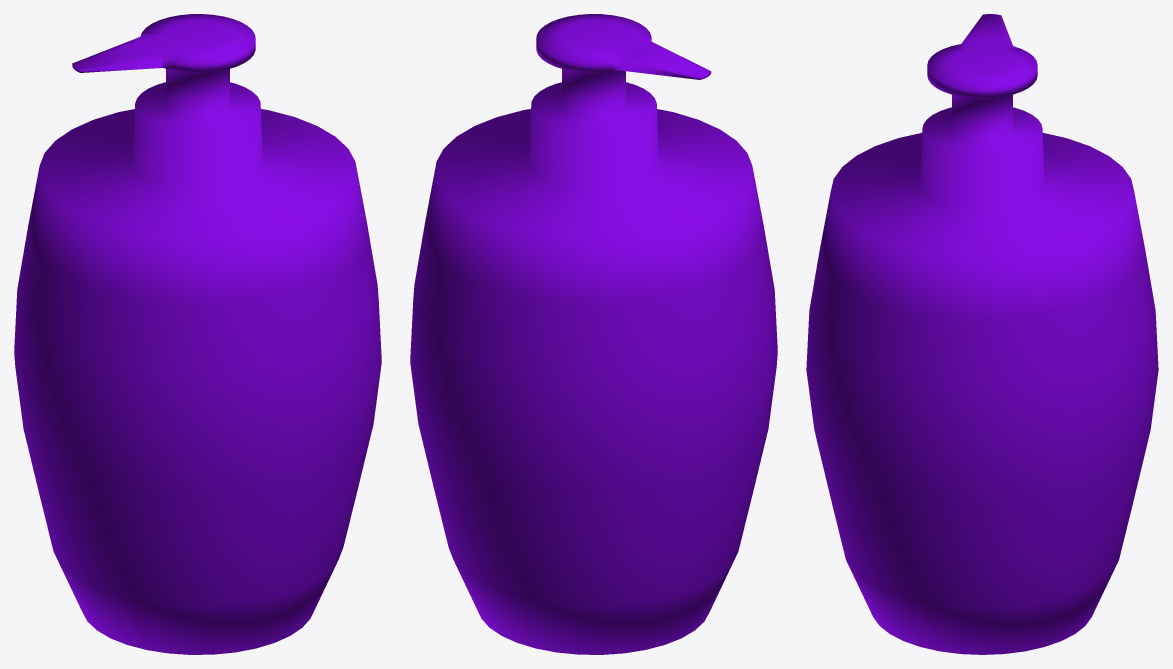
The model's file is SaponeLiquidoOliva.fbx.
3 views of the same model, side by side, from view 1: azimuth 30°, elevation 25°; view 2: azimuth 150°, elevation 25°; view 3: azimuth 270°, elevation 25° (orthographic). The views are drawn at different scales.
Parts seen in each view (by area): view 1: SaponeLiquido.002; view 2: SaponeLiquido.002; view 3: SaponeLiquido.002.
Boxes of the visible parts, x1=… form: SaponeLiquido.002: x1=14, y1=14, x2=381, y2=654; SaponeLiquido.002: x1=410, y1=14, x2=777, y2=654; SaponeLiquido.002: x1=806, y1=14, x2=1158, y2=654.
Bounding box in the file's own units: 272 × 465 × 272.
